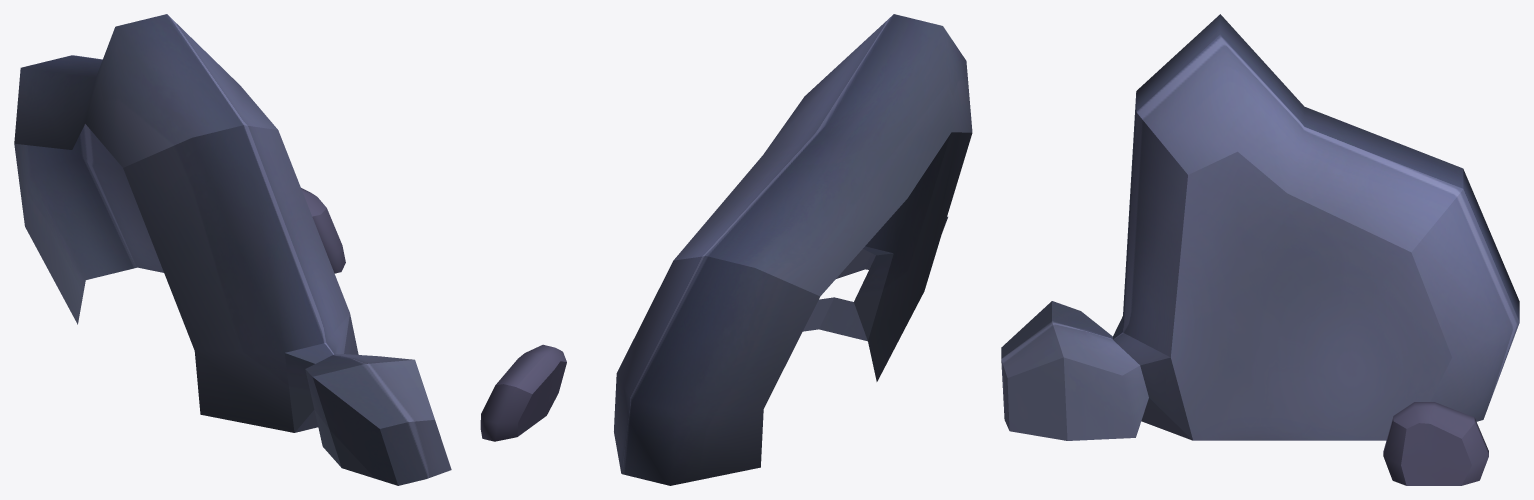
File: rockruin1.fbx
3 renders of one model, left to right at view 1: azimuth 30°, elevation 25°; view 2: azimuth 150°, elevation 25°; view 3: azimuth 270°, elevation 25°, orthographic. The views are drawn at different scales.
Visible parts, largest first — view 1: pCube10; view 2: pCube10; view 3: pCube10.
Part boxes in pixels (<box>): pCube10: <box>14,14,451,485</box>; pCube10: <box>480,14,972,485</box>; pCube10: <box>1001,14,1519,485</box>.
Bounding box in the file's own units: 13.24 × 14.02 × 19.77.
